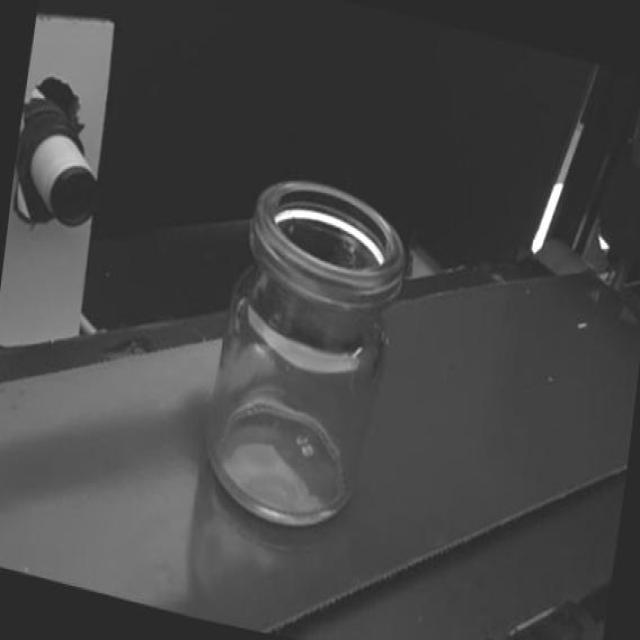defect: (351, 344, 362, 365)
glass: (193, 163, 406, 542)
